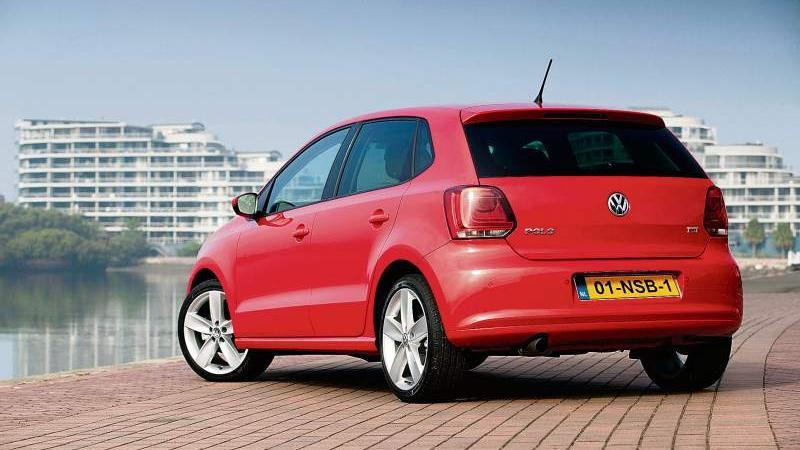kenteken: (573, 274, 679, 298)
